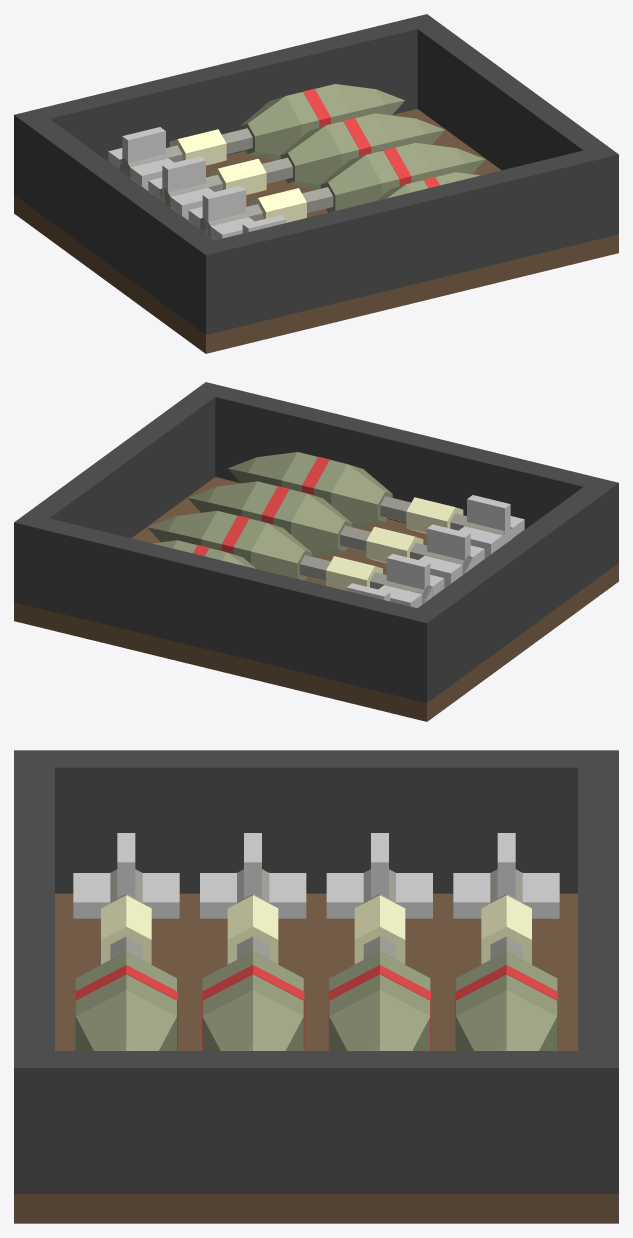
The model's file is ce_ammo_mortar_airburst_c.obj.
3 views of the same model, one above another, from view 1: azimuth 30°, elevation 25°; view 2: azimuth 150°, elevation 25°; view 3: azimuth 270°, elevation 25° (orthographic). The views are drawn at different scales.
Visible parts, largest first — view 1: ce_ammo_mortar_airburst_c_3, ce_ammo_mortar_airburst_c_1, ce_ammo_mortar_airburst_c_4, ce_ammo_mortar_airburst_c_2, ce_ammo_mortar_airburst_c_0, ce_ammo_mortar_airburst_c_37, ce_ammo_mortar_airburst_c_27, ce_ammo_mortar_airburst_c_17, ce_ammo_mortar_airburst_c_36, ce_ammo_mortar_airburst_c_24, ce_ammo_mortar_airburst_c_26, ce_ammo_mortar_airburst_c_34 (+20 smaller); view 2: ce_ammo_mortar_airburst_c_4, ce_ammo_mortar_airburst_c_1, ce_ammo_mortar_airburst_c_3, ce_ammo_mortar_airburst_c_2, ce_ammo_mortar_airburst_c_0, ce_ammo_mortar_airburst_c_7, ce_ammo_mortar_airburst_c_17, ce_ammo_mortar_airburst_c_27, ce_ammo_mortar_airburst_c_14, ce_ammo_mortar_airburst_c_6, ce_ammo_mortar_airburst_c_16, ce_ammo_mortar_airburst_c_26 (+20 smaller); view 3: ce_ammo_mortar_airburst_c_2, ce_ammo_mortar_airburst_c_1, ce_ammo_mortar_airburst_c_0, ce_ammo_mortar_airburst_c_3, ce_ammo_mortar_airburst_c_4, ce_ammo_mortar_airburst_c_21, ce_ammo_mortar_airburst_c_31, ce_ammo_mortar_airburst_c_11, ce_ammo_mortar_airburst_c_41, ce_ammo_mortar_airburst_c_13, ce_ammo_mortar_airburst_c_43, ce_ammo_mortar_airburst_c_23 (+25 smaller).
Part boxes in pixels (x1=…): ce_ammo_mortar_airburst_c_3: x1=216, y1=150, x2=596, y2=329; ce_ammo_mortar_airburst_c_1: x1=14, y1=109, x2=228, y2=334; ce_ammo_mortar_airburst_c_4: x1=37, y1=19, x2=417, y2=169; ce_ammo_mortar_airburst_c_2: x1=405, y1=14, x2=618, y2=239; ce_ammo_mortar_airburst_c_0: x1=14, y1=109, x2=618, y2=353; ce_ammo_mortar_airburst_c_37: x1=240, y1=96, x2=301, y2=160; ce_ammo_mortar_airburst_c_27: x1=280, y1=125, x2=341, y2=189; ce_ammo_mortar_airburst_c_17: x1=320, y1=155, x2=381, y2=212; ce_ammo_mortar_airburst_c_36: x1=169, y1=129, x2=226, y2=165; ce_ammo_mortar_airburst_c_24: x1=202, y1=186, x2=246, y2=240; ce_ammo_mortar_airburst_c_26: x1=209, y1=158, x2=266, y2=194; ce_ammo_mortar_airburst_c_34: x1=162, y1=156, x2=205, y2=224; ce_ammo_mortar_airburst_c_4: x1=36, y1=518, x2=416, y2=697; ce_ammo_mortar_airburst_c_1: x1=404, y1=477, x2=618, y2=702; ce_ammo_mortar_airburst_c_3: x1=215, y1=387, x2=595, y2=537; ce_ammo_mortar_airburst_c_2: x1=14, y1=382, x2=227, y2=607; ce_ammo_mortar_airburst_c_0: x1=14, y1=477, x2=618, y2=721; ce_ammo_mortar_airburst_c_7: x1=331, y1=464, x2=392, y2=528; ce_ammo_mortar_airburst_c_17: x1=291, y1=493, x2=352, y2=557; ce_ammo_mortar_airburst_c_27: x1=251, y1=523, x2=312, y2=580; ce_ammo_mortar_airburst_c_14: x1=467, y1=495, x2=510, y2=562; ce_ammo_mortar_airburst_c_6: x1=406, y1=497, x2=463, y2=533; ce_ammo_mortar_airburst_c_16: x1=366, y1=526, x2=423, y2=562; ce_ammo_mortar_airburst_c_26: x1=326, y1=556, x2=382, y2=590; ce_ammo_mortar_airburst_c_2: x1=14, y1=1051, x2=618, y2=1193; ce_ammo_mortar_airburst_c_1: x1=14, y1=750, x2=618, y2=893; ce_ammo_mortar_airburst_c_0: x1=14, y1=893, x2=618, y2=1223; ce_ammo_mortar_airburst_c_3: x1=14, y1=767, x2=54, y2=1050; ce_ammo_mortar_airburst_c_4: x1=578, y1=767, x2=618, y2=1050; ce_ammo_mortar_airburst_c_21: x1=202, y1=990, x2=303, y2=1050; ce_ammo_mortar_airburst_c_31: x1=329, y1=990, x2=430, y2=1050; ce_ammo_mortar_airburst_c_11: x1=75, y1=990, x2=176, y2=1050; ce_ammo_mortar_airburst_c_41: x1=456, y1=990, x2=557, y2=1050; ce_ammo_mortar_airburst_c_13: x1=73, y1=873, x2=179, y2=918; ce_ammo_mortar_airburst_c_43: x1=453, y1=873, x2=559, y2=918; ce_ammo_mortar_airburst_c_23: x1=200, y1=873, x2=306, y2=918.
Bounding box in the file's own units: 0.92 × 0.21 × 0.74.
